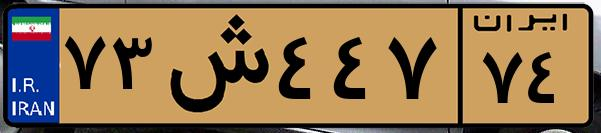3: (110, 28, 158, 98)
4: (270, 28, 330, 110), (330, 28, 385, 110), (525, 38, 570, 115)
7: (385, 28, 445, 110), (57, 26, 110, 100), (475, 38, 525, 113)
ش: (158, 12, 270, 120)
